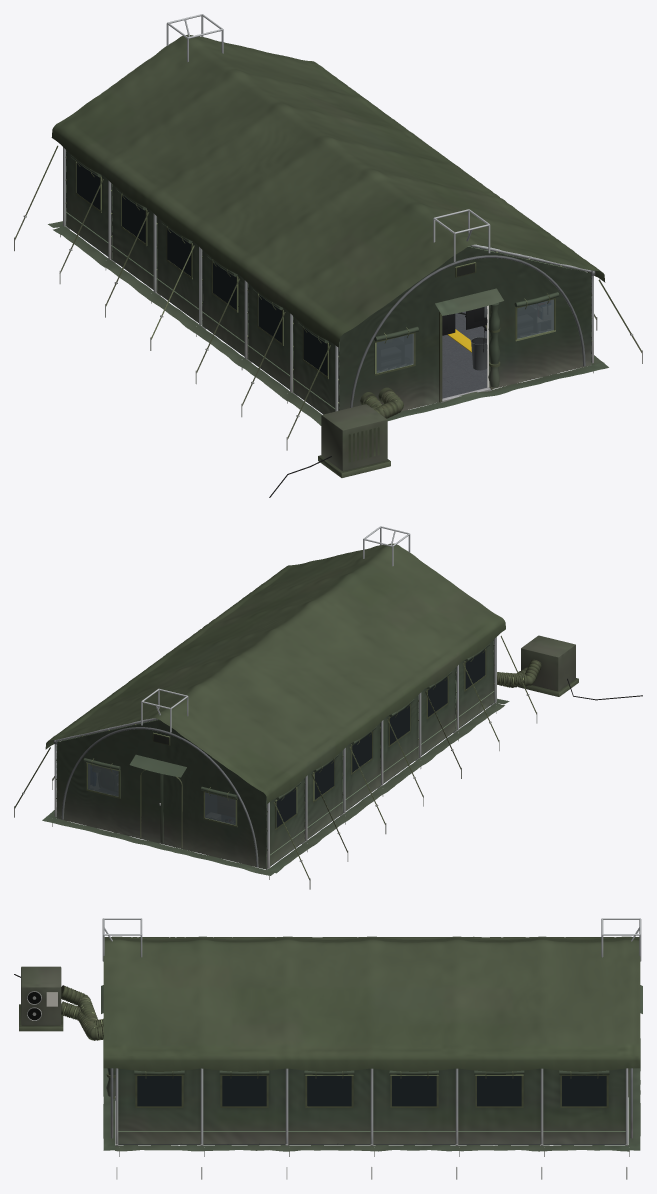
The model's file is rdmss-deployed-fitted.glb.
3 renders of one model, top to bottom at view 1: azimuth 30°, elevation 25°; view 2: azimuth 150°, elevation 25°; view 3: azimuth 270°, elevation 25°, orthographic. The views are drawn at different scales.
Parts seen in each view (by area): view 1: RDMSS_solar_shade, RDMSS_shelter, RDMSS_frame, RDMSS_fitout; view 2: RDMSS_solar_shade, RDMSS_shelter, RDMSS_frame; view 3: RDMSS_solar_shade, RDMSS_shelter, RDMSS_frame.
Boxes of the visible parts, bbox=[...] form: RDMSS_solar_shade: bbox=[14, 34, 642, 450]; RDMSS_shelter: bbox=[48, 150, 608, 497]; RDMSS_frame: bbox=[60, 14, 595, 411]; RDMSS_fitout: bbox=[125, 268, 487, 398]; RDMSS_solar_shade: bbox=[14, 543, 537, 889]; RDMSS_shelter: bbox=[42, 635, 642, 875]; RDMSS_frame: bbox=[52, 526, 496, 879]; RDMSS_solar_shade: bbox=[103, 936, 640, 1179]; RDMSS_shelter: bbox=[14, 966, 642, 1151]; RDMSS_frame: bbox=[102, 918, 641, 1156].
Bounding box in the file's own units: 10.37 × 4.26 × 14.1.
61 materials, 25 textured.
